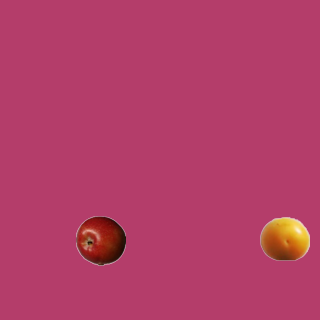Apple Braeburn: (75, 215, 125, 265)
Cherry Wax Yellow: (259, 213, 309, 263)
